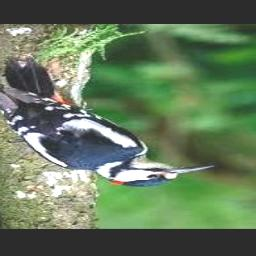Woodpecker: (0, 56, 214, 187)
